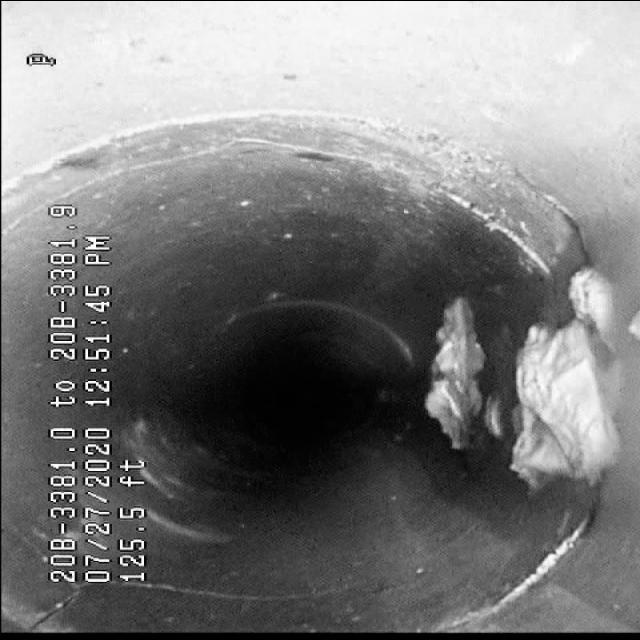Crack: (162, 100, 524, 210)
